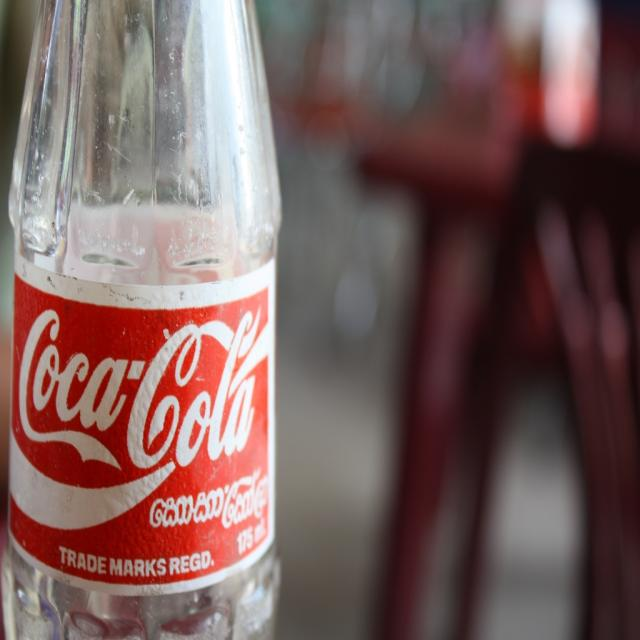cocacola: (15, 296, 269, 479)
